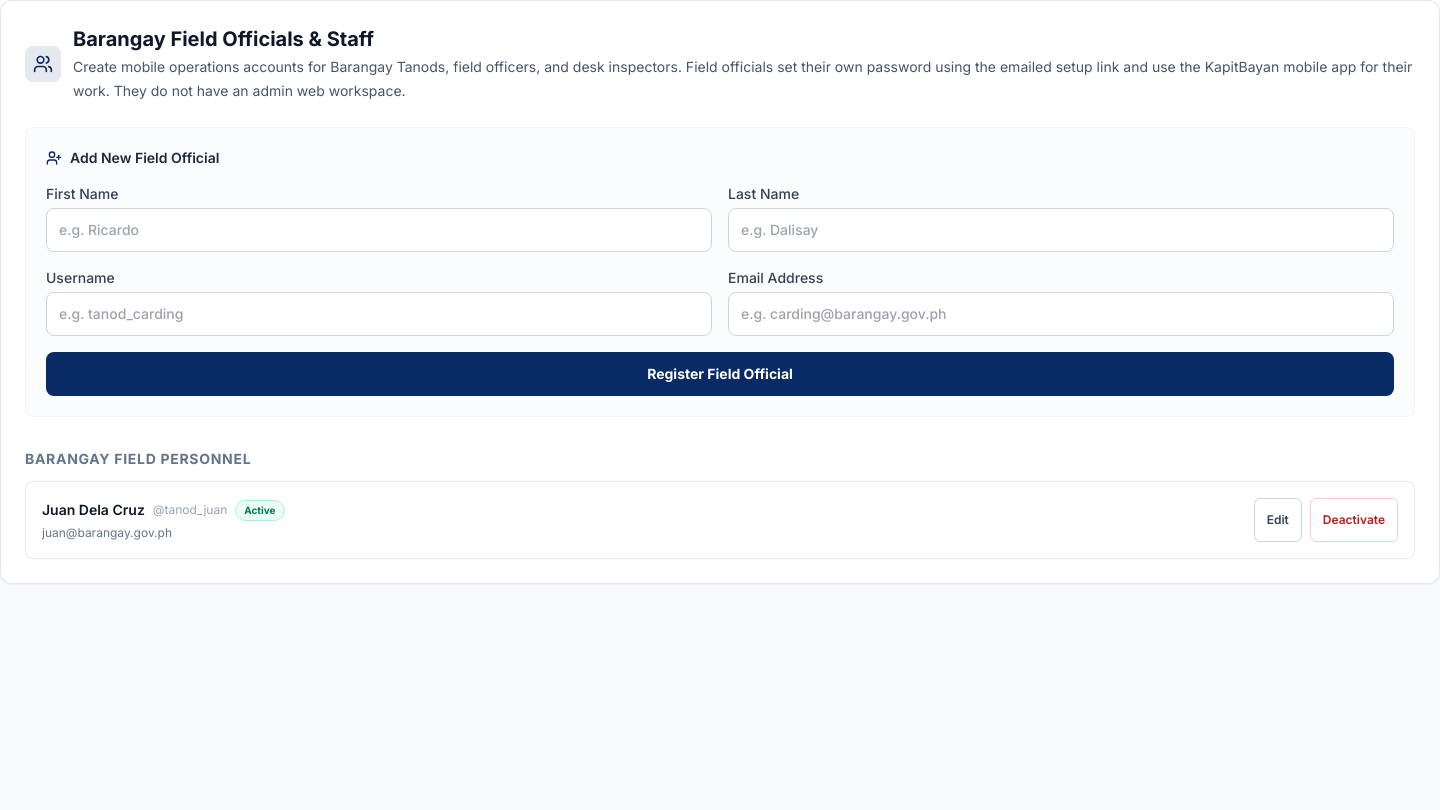
Test: StaffManagementSettings › renders existing staff and toggles active status
Expected: the heading "Juan Dela Cruz" is shown, [42,500,145,520]
Expected: the text "Active" is shown, [235,500,284,520]
Step 1. Click the button "Deactivate" → [1354, 520], box [1310,498,1398,542]
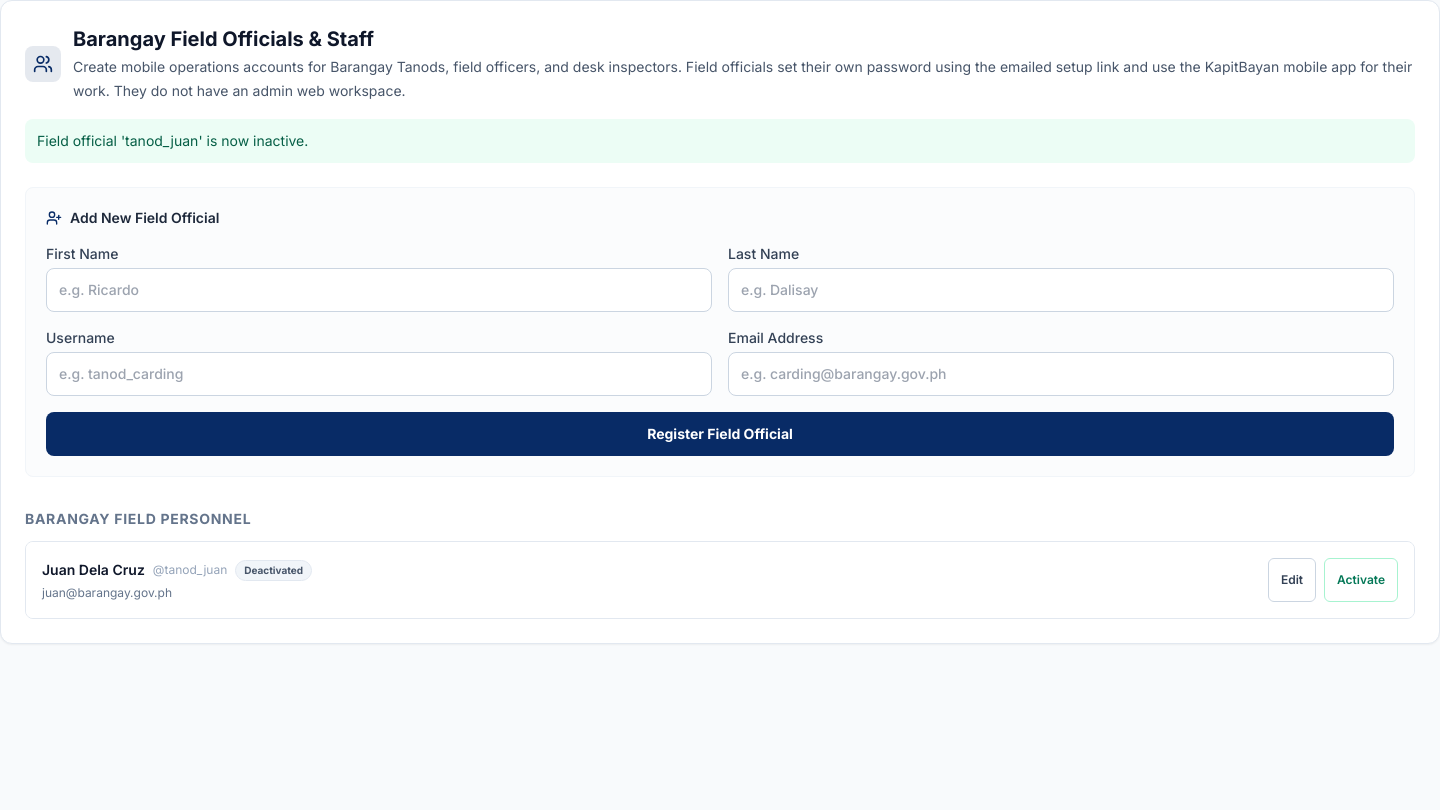
Expected: the button "Activate" is shown, [1324,558,1398,602]
Expected: the text "Field official 'tanod_juan' is now inactive." is shown, [25,119,1415,163]
Expected: the text "Deactivated" is shown, [235,560,312,580]
